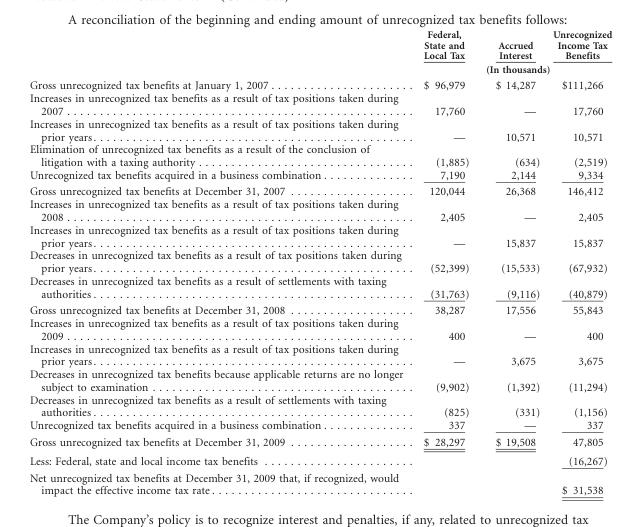table: (28, 28, 611, 496)
table column: (28, 28, 412, 496), (412, 28, 481, 496), (545, 28, 611, 496), (481, 28, 545, 496)
table column header: (28, 28, 611, 76)
table row: (28, 28, 611, 61), (28, 468, 611, 496), (28, 274, 611, 301), (28, 91, 611, 117), (28, 142, 611, 168), (28, 197, 611, 223), (28, 248, 611, 274), (28, 341, 611, 367), (28, 392, 611, 418), (28, 117, 611, 142), (28, 223, 611, 248), (28, 316, 611, 341), (28, 367, 611, 392), (28, 433, 611, 451), (28, 451, 611, 468), (28, 61, 611, 76), (28, 76, 611, 91), (28, 182, 611, 197), (28, 301, 611, 316), (28, 418, 611, 433), (28, 168, 611, 182)
table spanning cell: (412, 61, 611, 76)
